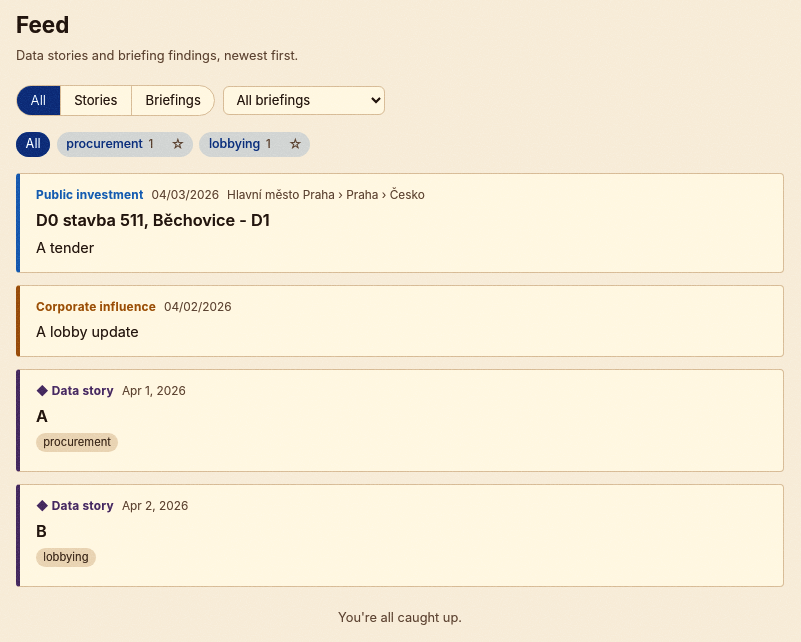
Test: FeedView › persists the active tag to localStorage when a chip is clicked
The width and height of the screenshot is (801, 642).
Click the button with test id "tag-chip-procurement" at (110, 145), box 57,132 -> 163,157
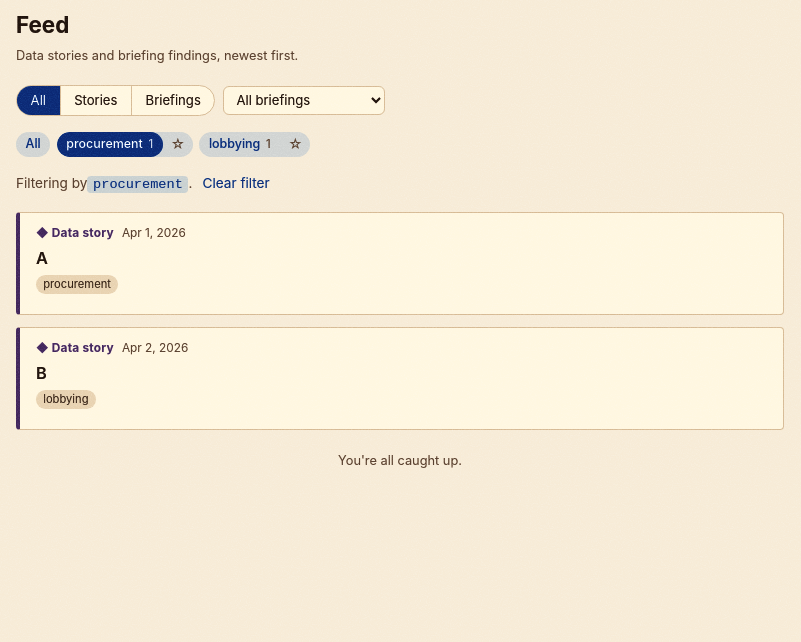
Check: the text "procurement" is shown, box 88,176 -> 188,193
